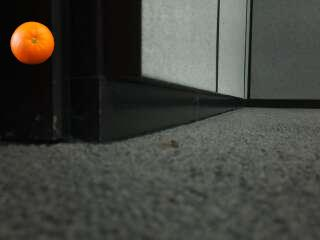Orange: (10, 21, 54, 66)
